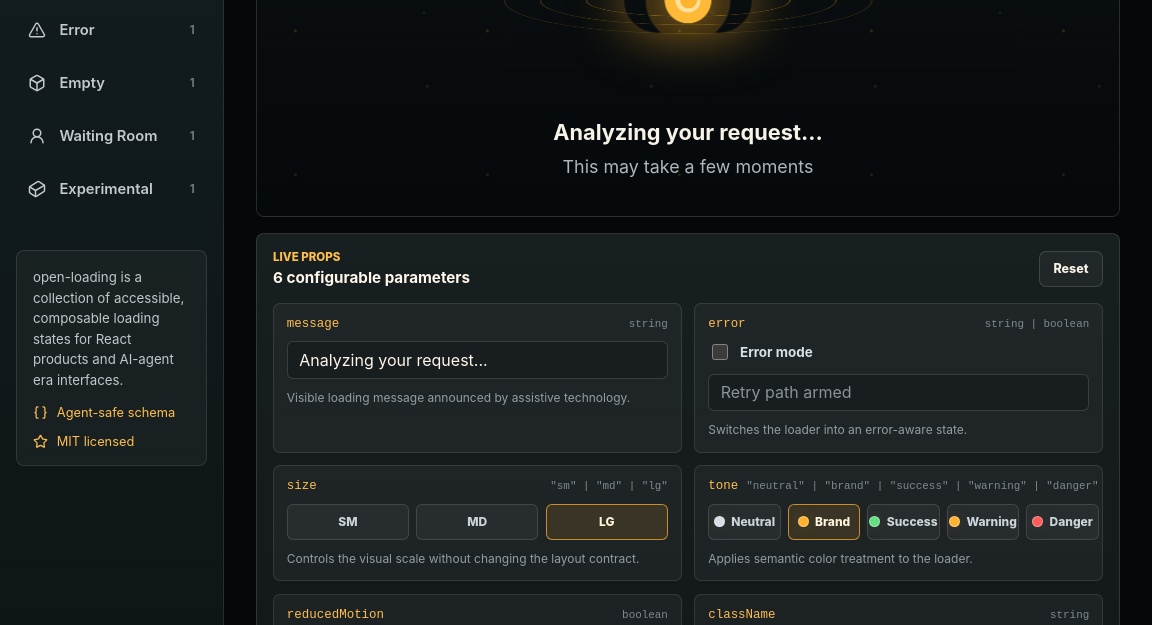
Test case: gallery app › enables error mode for error-capable loaders
(page scrolled)
Click the checkbox named "Enable error mode": x=720, y=352 712,344 -> 728,360
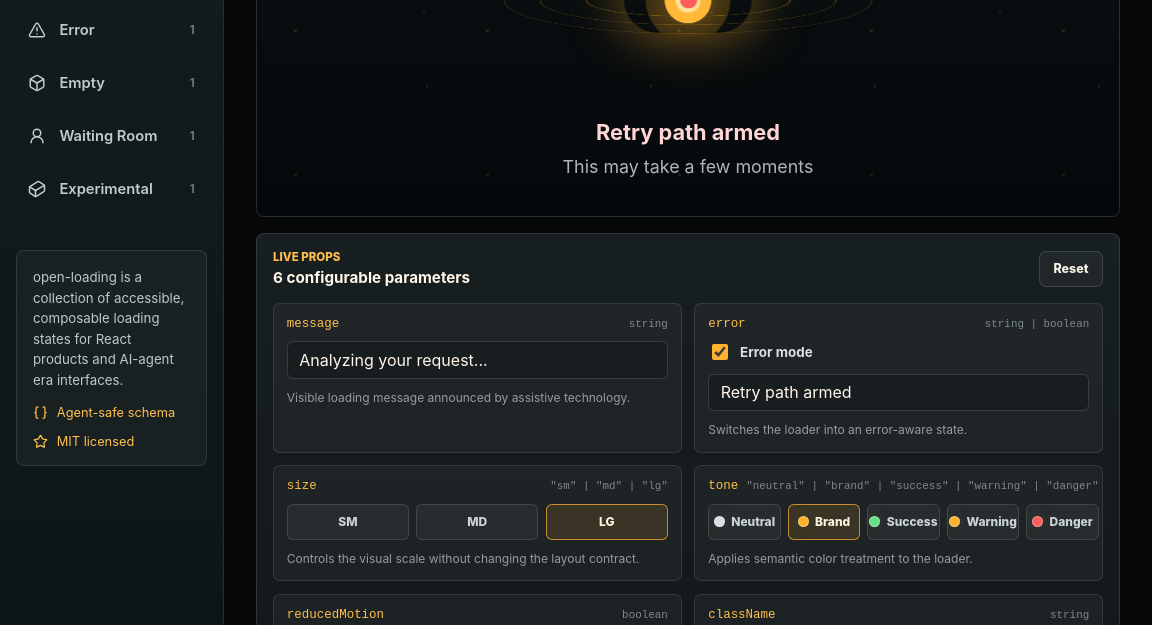
In the field named "Error message": x=899, y=392 708,374 -> 1089,411, type "Network paused"
(page scrolled)
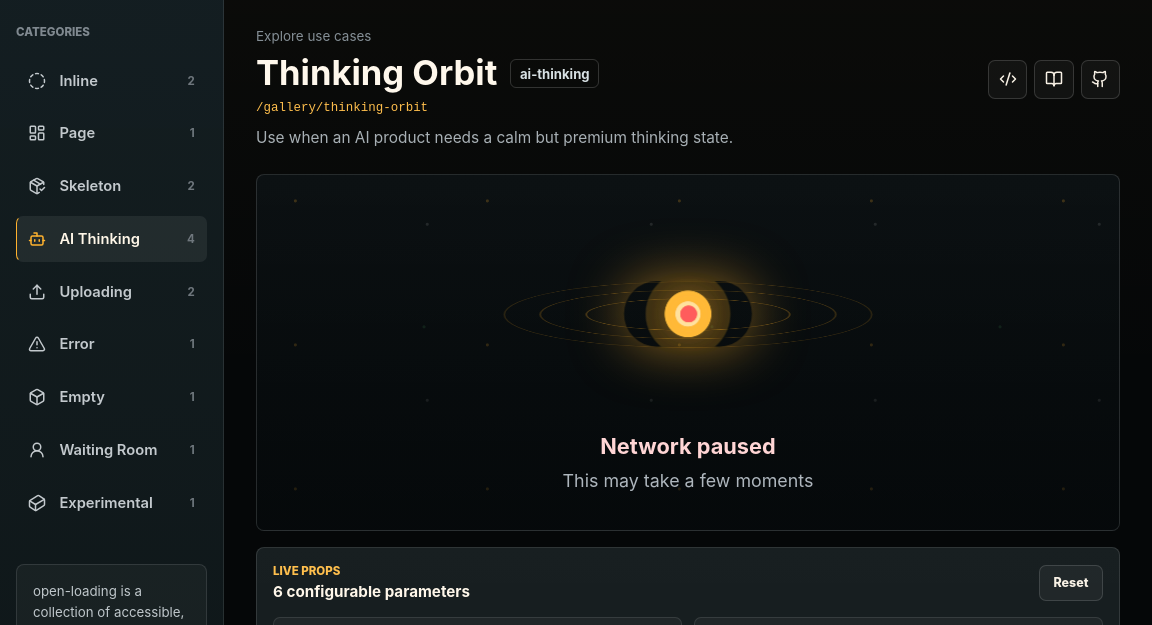
expect the message named "Thinking Orbit loading state" shows "Network paused": met, box 600,433 -> 776,459
